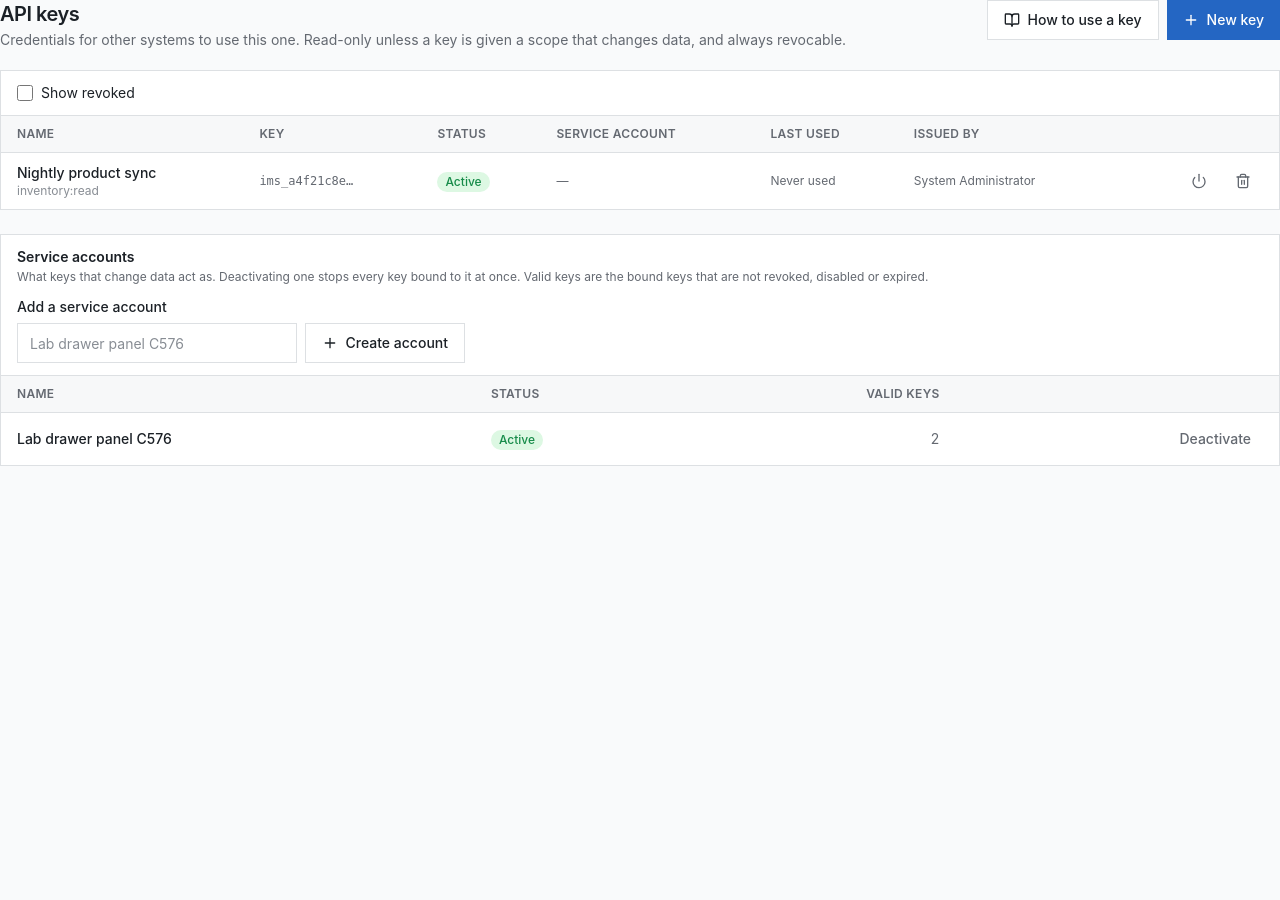
it: ApiKeysPage › scopes that change data › offers no Never and nothing over the ceiling once a scope that changes data is ticked
Click the button "New key" at (1223, 20), box [1166,0,1279,40]
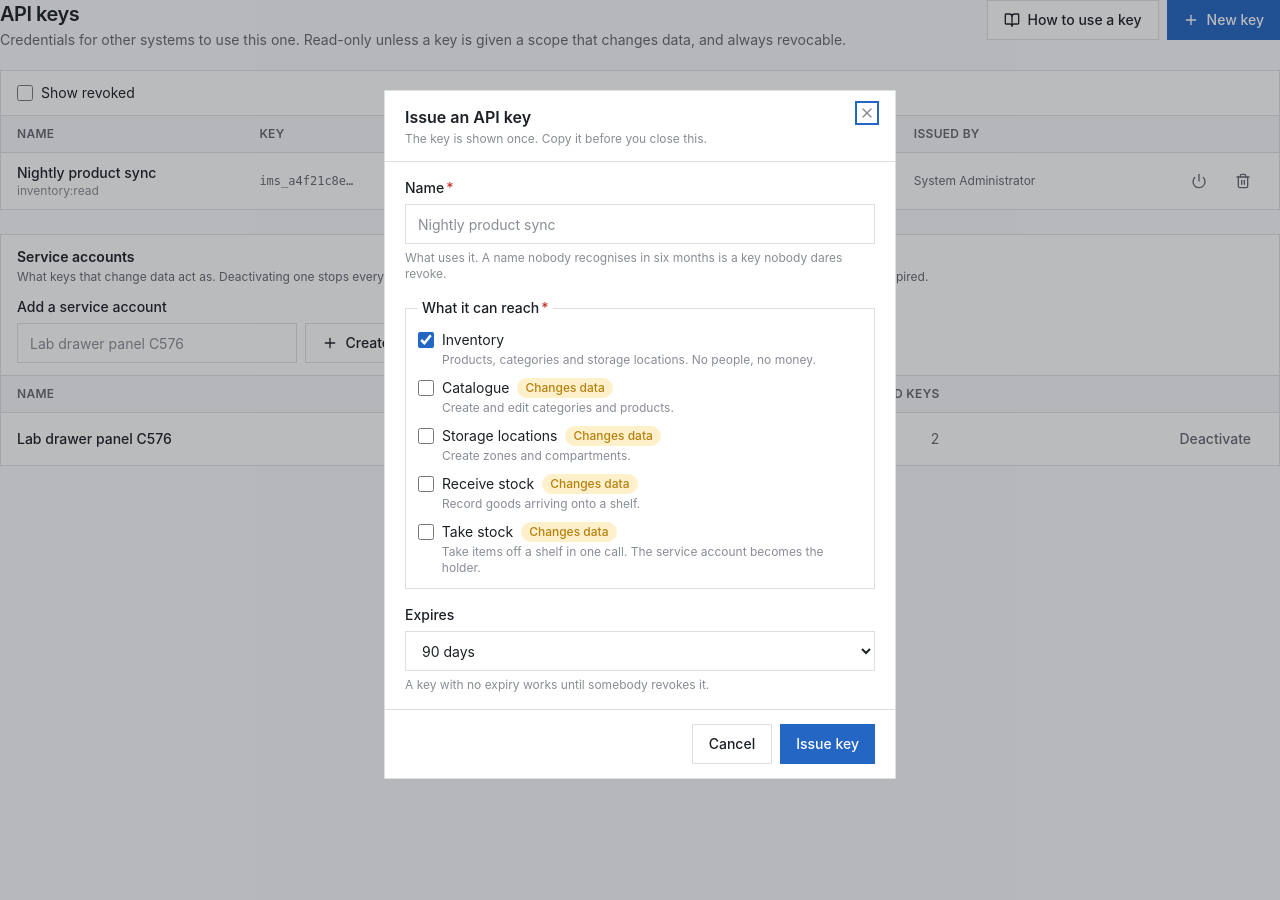
Click the checkbox labelled "Catalogue Changes data" at (426, 388), box [418,380,434,396]
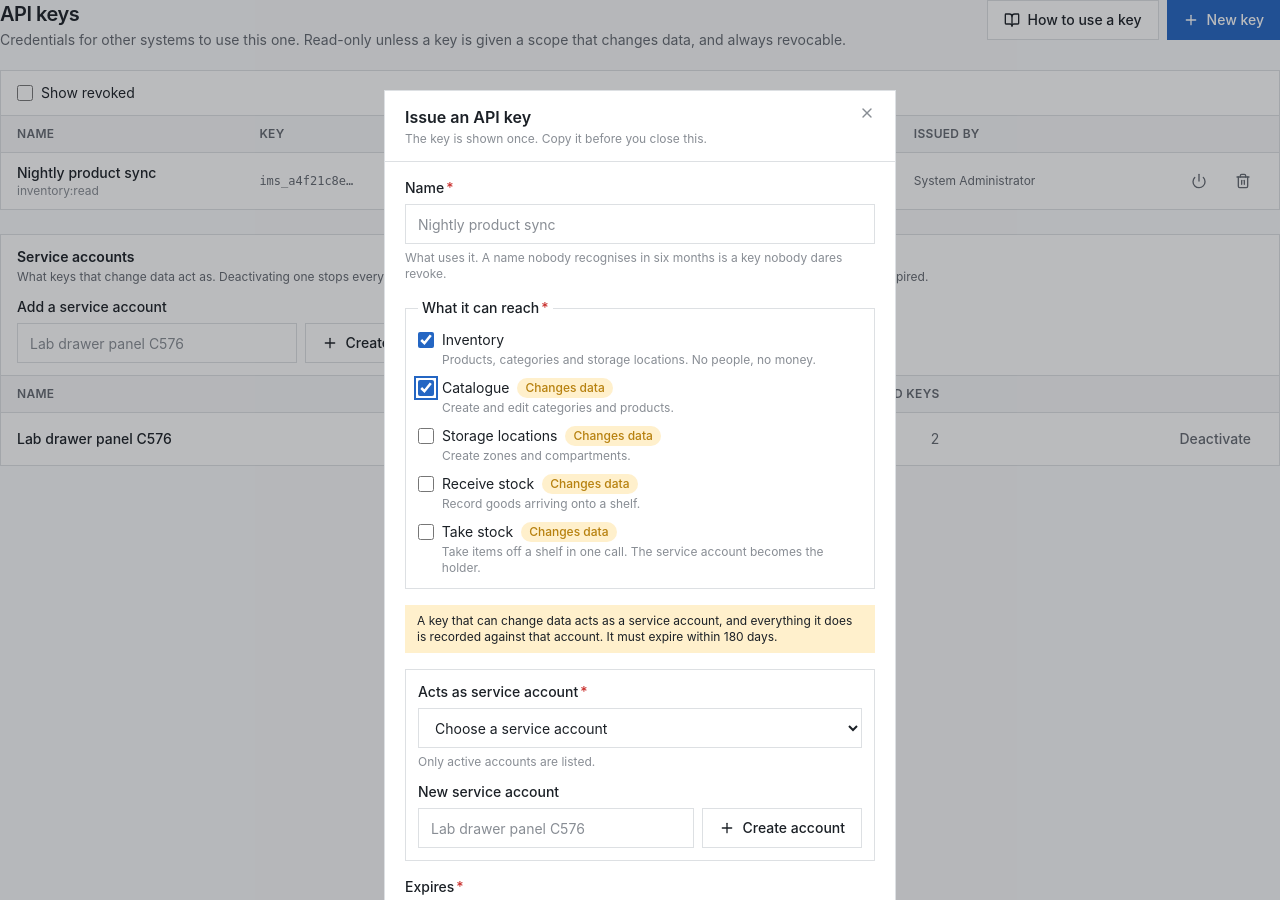
Click the checkbox labelled "Catalogue Changes data" at (426, 388), box [418,380,434,396]
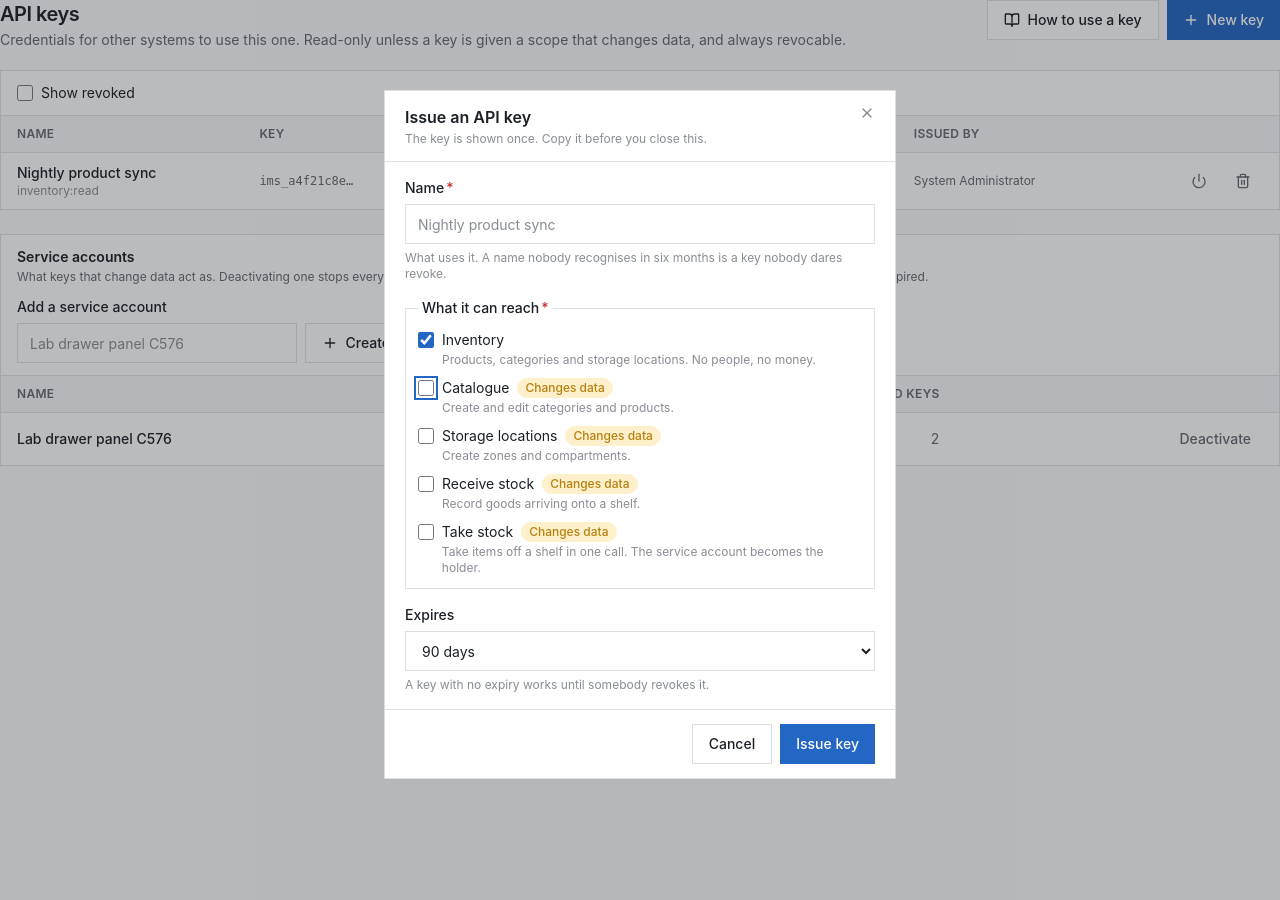
Expected: the label labelled "Acts as service account" is gone
